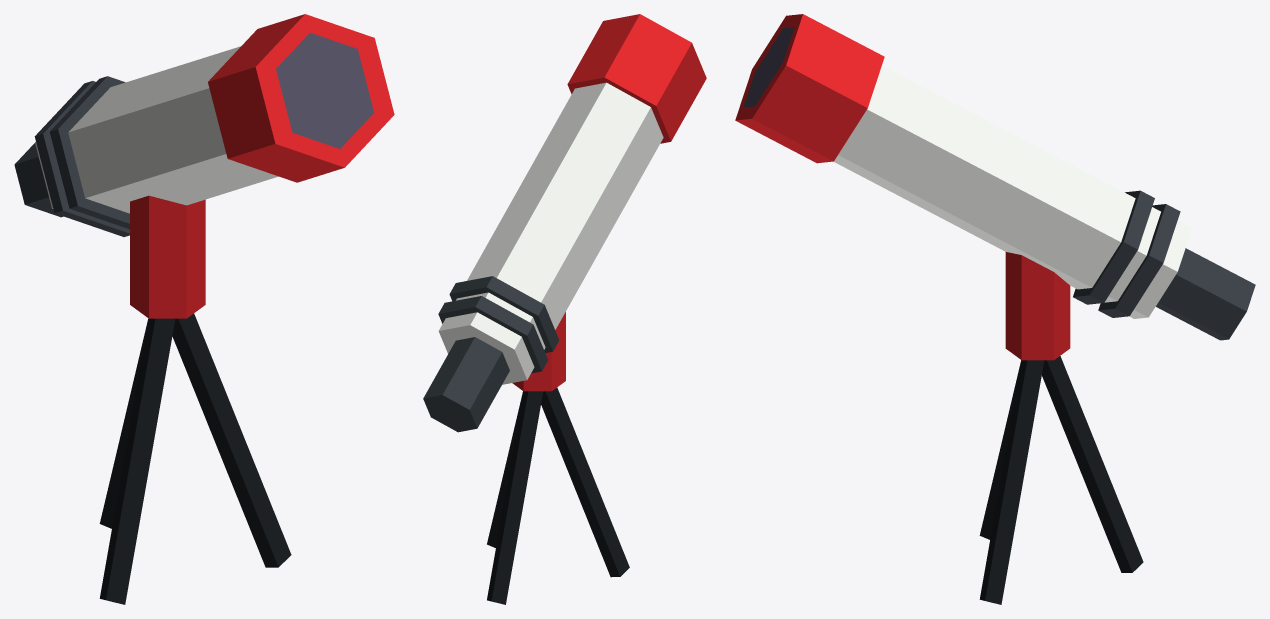
Rendered from telescope.FBX.
3 views of the same model, side by side, from view 1: azimuth 30°, elevation 25°; view 2: azimuth 150°, elevation 25°; view 3: azimuth 270°, elevation 25° (orthographic). The views are drawn at different scales.
Visible parts, largest first — view 1: telescope; view 2: telescope; view 3: telescope.
Part boxes in pixels (bbox=[...]): telescope: bbox=[14, 14, 394, 604]; telescope: bbox=[423, 14, 706, 604]; telescope: bbox=[735, 14, 1255, 604].
Size of the model in its own units: 2.51 by 8.44 by 7.12.
